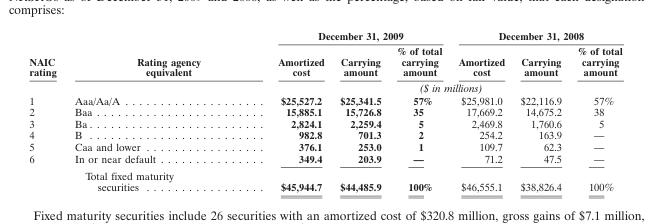table: (28, 29, 621, 192)
table column: (64, 29, 238, 192), (238, 29, 331, 192), (449, 29, 511, 192), (388, 29, 449, 192), (511, 29, 569, 192), (331, 29, 388, 192), (569, 29, 621, 192), (28, 29, 64, 192)
table column header: (28, 29, 621, 93)
table row: (28, 43, 621, 79), (28, 166, 621, 192), (28, 29, 621, 43), (28, 79, 621, 93), (28, 152, 621, 166), (28, 93, 621, 105), (28, 105, 621, 117), (28, 117, 621, 129), (28, 140, 621, 152), (28, 129, 621, 140)
table spanning cell: (64, 29, 238, 93), (238, 79, 621, 93), (238, 29, 449, 43), (449, 29, 621, 43), (28, 29, 64, 93), (28, 152, 64, 192)
